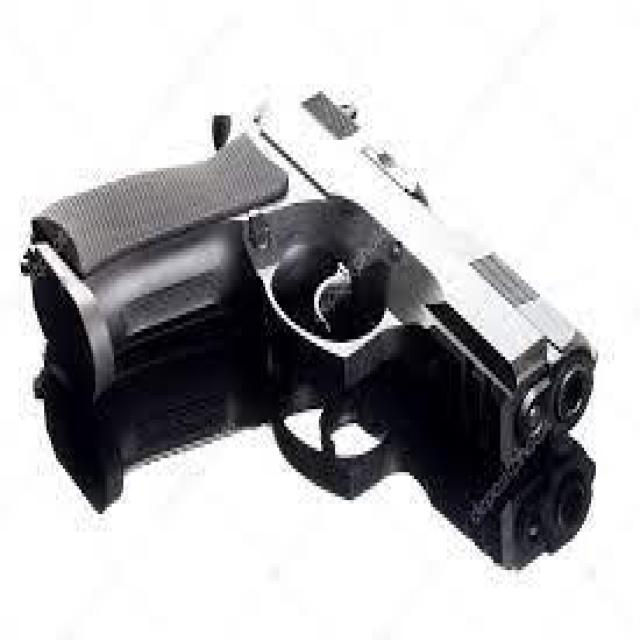gun: (19, 94, 596, 469)
